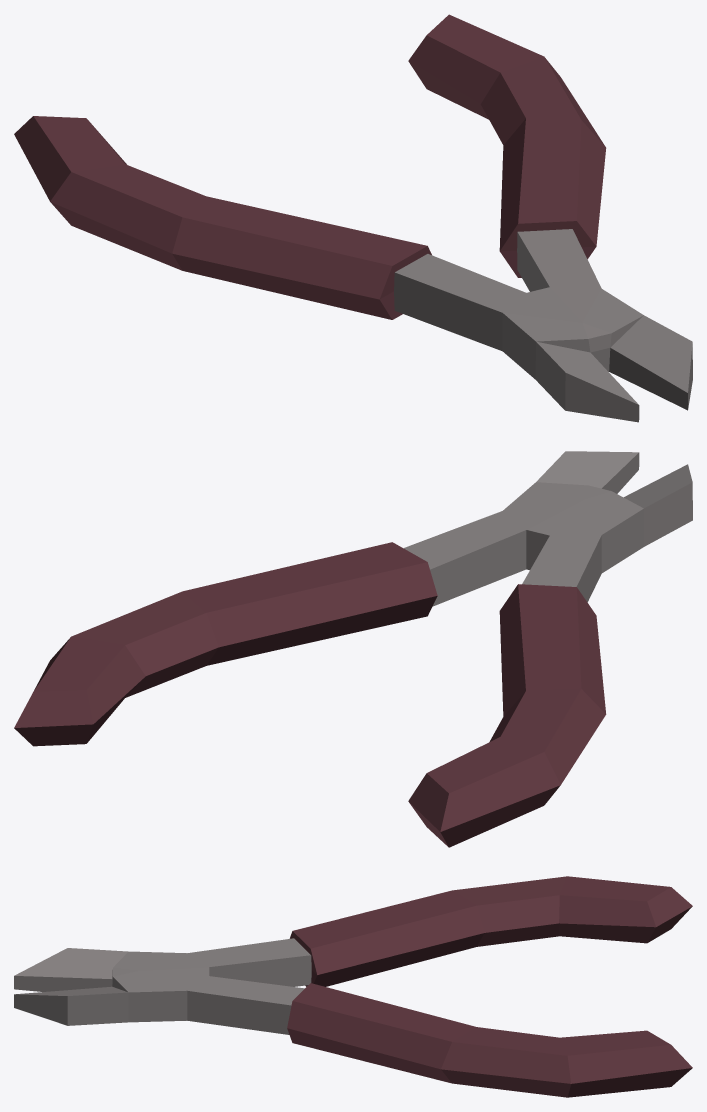
File: wire-cutters.fbx
3 renders of one model, top to bottom at view 1: azimuth 30°, elevation 25°; view 2: azimuth 150°, elevation 25°; view 3: azimuth 270°, elevation 25°, orthographic. The views are drawn at different scales.
Visible parts, largest first — view 1: wire-cutters; view 2: wire-cutters; view 3: wire-cutters.
Part boxes in pixels (x1,y1,x2,y2): wire-cutters: [14, 14, 692, 422]; wire-cutters: [14, 451, 692, 847]; wire-cutters: [14, 876, 692, 1097].
Size of the model in its own units: 0.1291 by 0.0131 by 0.191.
